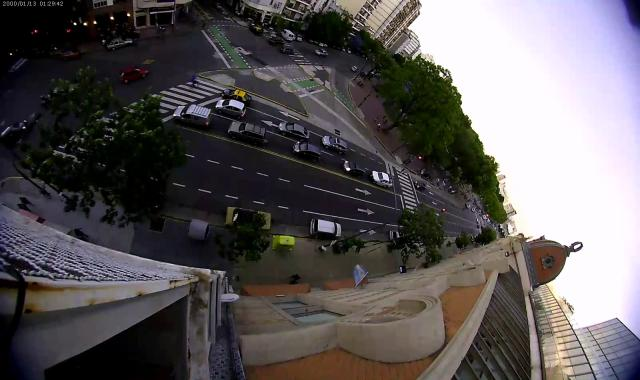bus: (482, 215, 487, 220)
car: (224, 206, 272, 232), (173, 104, 212, 131), (228, 121, 266, 145), (0, 119, 29, 145), (214, 100, 247, 120), (310, 218, 342, 238), (221, 90, 253, 108), (278, 123, 310, 141), (293, 142, 321, 162), (322, 136, 348, 155), (120, 67, 148, 84), (369, 171, 393, 188), (342, 161, 366, 178), (107, 37, 133, 51), (60, 48, 80, 61), (280, 29, 295, 42), (280, 45, 295, 55), (249, 26, 263, 36), (269, 38, 285, 46), (414, 181, 426, 191), (315, 49, 328, 57), (389, 230, 400, 238), (213, 3, 222, 9), (296, 34, 302, 42), (352, 66, 358, 72), (314, 39, 319, 44), (361, 71, 366, 76), (324, 43, 328, 48), (319, 42, 323, 47), (309, 39, 313, 44), (465, 204, 470, 208), (476, 219, 480, 224), (348, 50, 352, 54), (471, 208, 475, 212), (476, 225, 480, 229), (293, 35, 296, 40)
